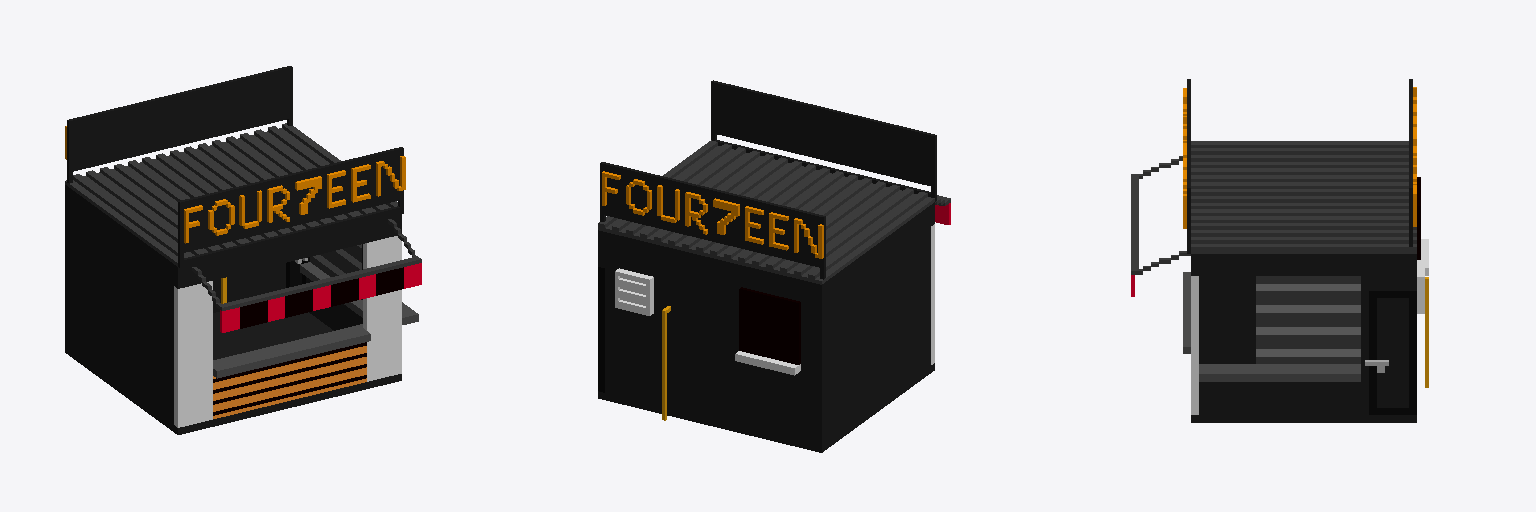
3 renders of one model, left to right at view 1: azimuth 30°, elevation 25°; view 2: azimuth 150°, elevation 25°; view 3: azimuth 270°, elevation 25°, orthographic.
Parts seen in each view (by area): view 1: object 1; view 2: object 1; view 3: object 1.
Part boxes in pixels (x1,y1,x2,y2): object 1: (65,66,421,434); object 1: (598,80,950,452); object 1: (1131,79,1428,422).
Size of the model in its own units: 7 by 6.4 by 7.4.
Materials: 1 (1 with a texture image).